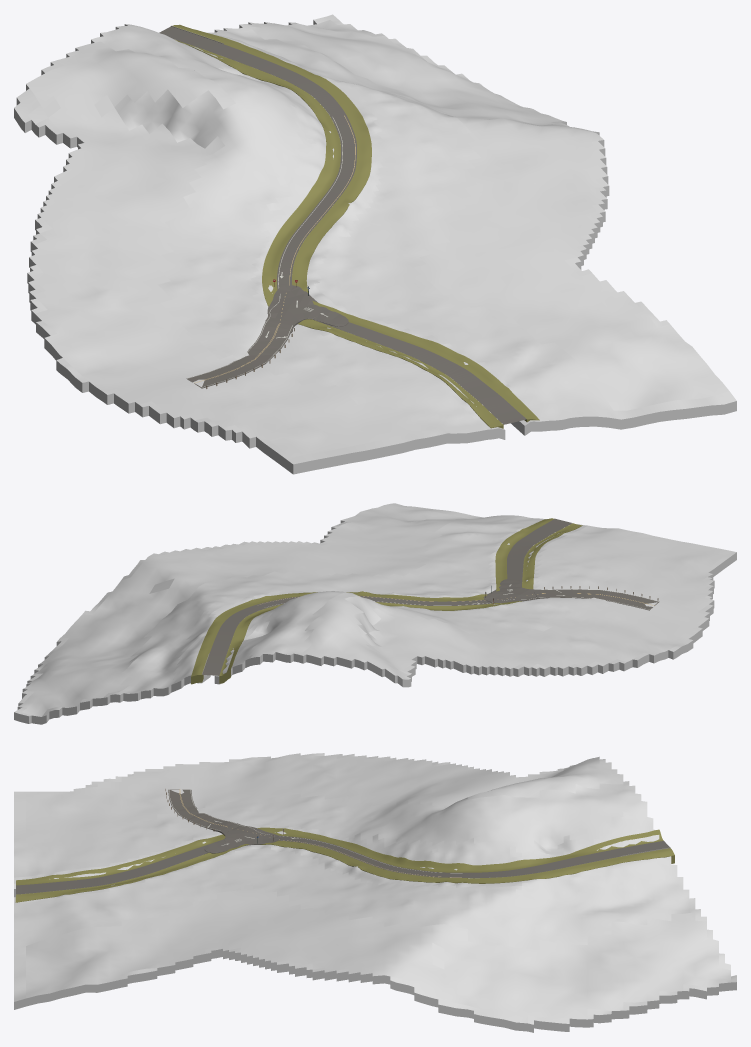
The model's file is conz_25.glb.
3 renders of one model, top to bottom at view 1: azimuth 30°, elevation 25°; view 2: azimuth 150°, elevation 25°; view 3: azimuth 270°, elevation 25°, orthographic. The views are drawn at different scales.
Visible parts, largest first — view 1: terrain25, road25, verge25L, verge25R, lot_forkw25, lot_fork25; view 2: terrain25, road25, verge25L, verge25R, lot_forkw25, lot_fork25; view 3: terrain25, verge25R, road25, verge25L, lot_forkw25, lot_fork25.
Part boxes in pixels (x1,y1,x2,y2): terrain25: (14, 14, 736, 474); road25: (159, 26, 526, 424); verge25L: (172, 24, 539, 422); verge25R: (174, 39, 503, 428); lot_forkw25: (186, 317, 294, 388); lot_fork25: (265, 285, 348, 332); terrain25: (14, 503, 736, 724); road25: (202, 518, 572, 675); verge25L: (191, 518, 554, 684); verge25R: (219, 523, 582, 683); lot_forkw25: (532, 589, 659, 610); lot_fork25: (483, 578, 547, 602); terrain25: (14, 753, 736, 1032); verge25R: (16, 827, 663, 885); road25: (16, 835, 669, 894); verge25L: (15, 840, 674, 902); lot_forkw25: (168, 789, 241, 832); lot_fork25: (204, 823, 280, 853).
Bounding box in the file's own units: 198 × 48.96 × 242.
